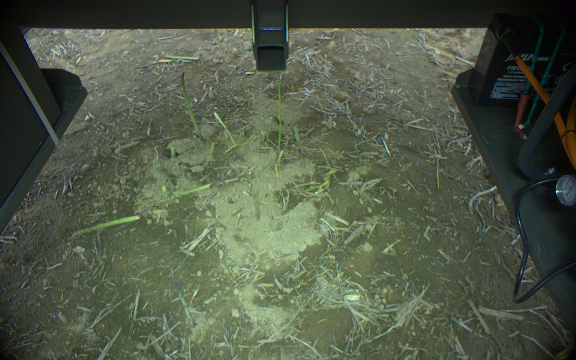aspa: (68, 213, 141, 237), (178, 71, 203, 139), (170, 281, 196, 327), (211, 110, 237, 146), (157, 182, 214, 196), (275, 73, 283, 150), (295, 147, 305, 168), (290, 122, 300, 141)
